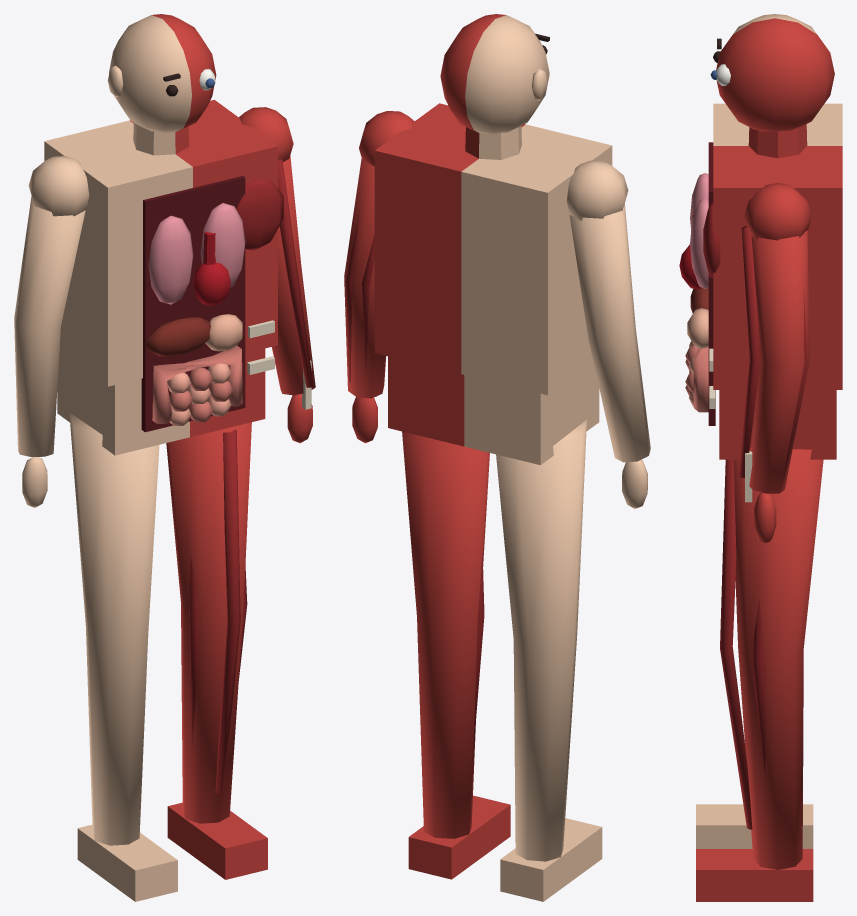
Rendered from p_jintai.glb.
The picture shows the model from 3 angles, left to right: view 1: azimuth 30°, elevation 25°; view 2: azimuth 150°, elevation 25°; view 3: azimuth 270°, elevation 25°; orthographic projection.
Visible parts, largest first — view 1: jintai_body, jintai_organs; view 2: jintai_body; view 3: jintai_body, jintai_organs.
Part boxes in pixels (x1,y1,x2,y2): jintai_body: [14, 14, 315, 901]; jintai_organs: [141, 176, 245, 432]; jintai_body: [344, 14, 650, 901]; jintai_body: [696, 14, 842, 901]; jintai_organs: [679, 142, 715, 425].
Size of the model in its own units: 0.5877 by 1.6 by 0.278.
